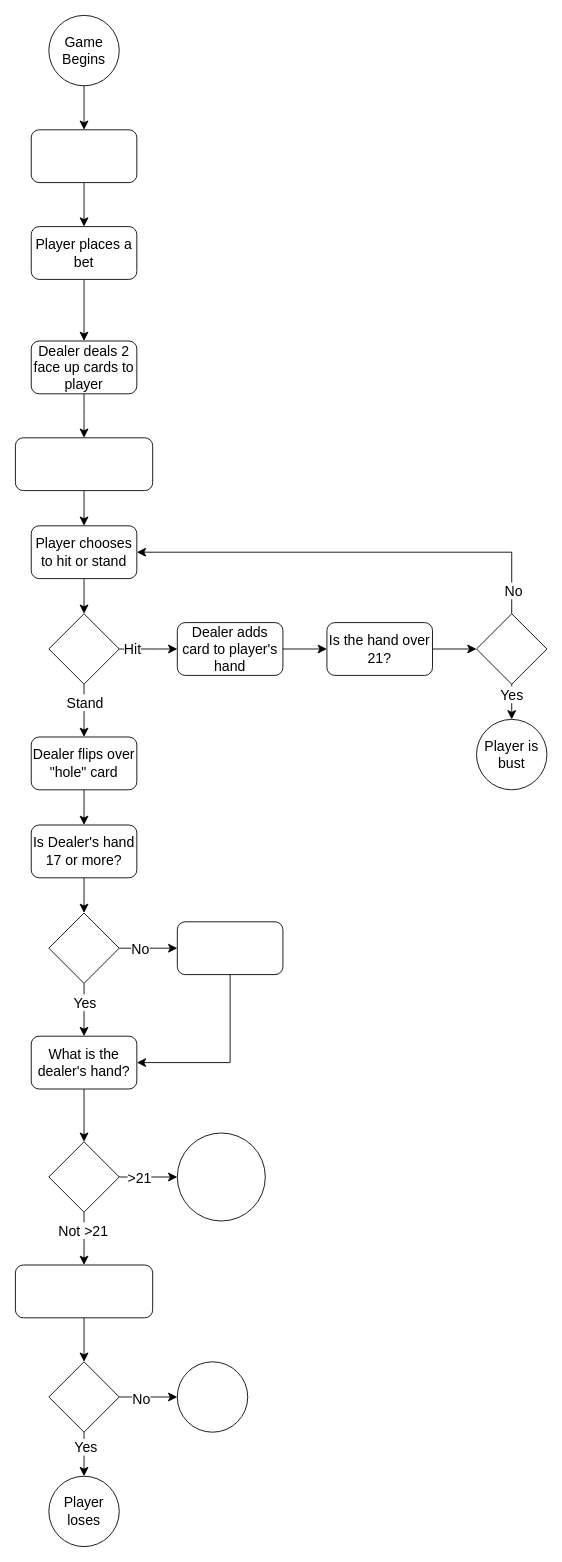
Image size: 562x1562. Some labels were removed from this diagram. Here are the shapes that lost their labels. From the top down, the box of each, then its label:
(30, 129, 137, 183): Player enters their name
(15, 437, 153, 491): Dealer deals 1 face up and 1 face down card to dealer
(176, 921, 283, 975): Dealer takes cards until hand is 17 or more
(176, 1132, 265, 1221): Dealer is bust, player wins
(15, 1264, 153, 1318): Does the dealer have the same or higher hand?
(176, 1361, 248, 1432): Dealer loses
